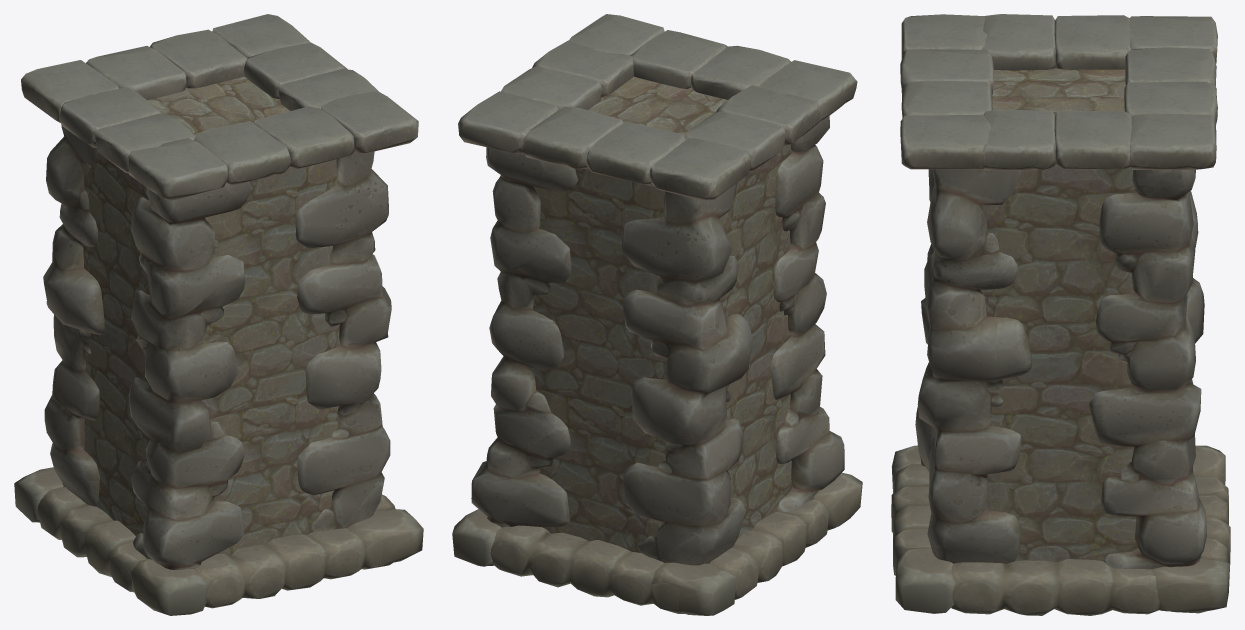
The model's file is SM_FW01_Ruins_Int_Pillar_A_2x4_01.fbx.
The picture shows the model from 3 angles, left to right: view 1: azimuth 30°, elevation 25°; view 2: azimuth 150°, elevation 25°; view 3: azimuth 270°, elevation 25°; orthographic projection. The views are drawn at different scales.
Parts seen in each view (by area): view 1: SM_FW01_Ruins_Int_Pillar_A_2x4_01_LOD0, SM_FW01_Ruins_Int_Pillar_A_2x4_01; view 2: SM_FW01_Ruins_Int_Pillar_A_2x4_01_LOD0, SM_FW01_Ruins_Int_Pillar_A_2x4_01; view 3: SM_FW01_Ruins_Int_Pillar_A_2x4_01_LOD0, SM_FW01_Ruins_Int_Pillar_A_2x4_01.
Part boxes in pixels (left/top/right/bottom): SM_FW01_Ruins_Int_Pillar_A_2x4_01_LOD0: left=14, top=14, right=423, bottom=615; SM_FW01_Ruins_Int_Pillar_A_2x4_01: left=82, top=76, right=289, bottom=520; SM_FW01_Ruins_Int_Pillar_A_2x4_01_LOD0: left=452, top=14, right=862, bottom=615; SM_FW01_Ruins_Int_Pillar_A_2x4_01: left=530, top=77, right=793, bottom=552; SM_FW01_Ruins_Int_Pillar_A_2x4_01_LOD0: left=891, top=14, right=1230, bottom=615; SM_FW01_Ruins_Int_Pillar_A_2x4_01: left=980, top=68, right=1139, bottom=562.
Size of what is drawn, in the model's own units: 2.69 by 4.26 by 2.78.
